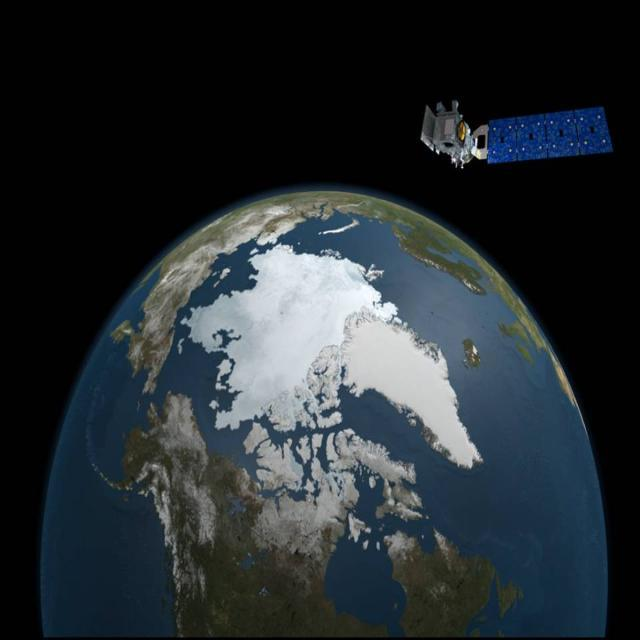sat: (407, 73, 640, 206)
